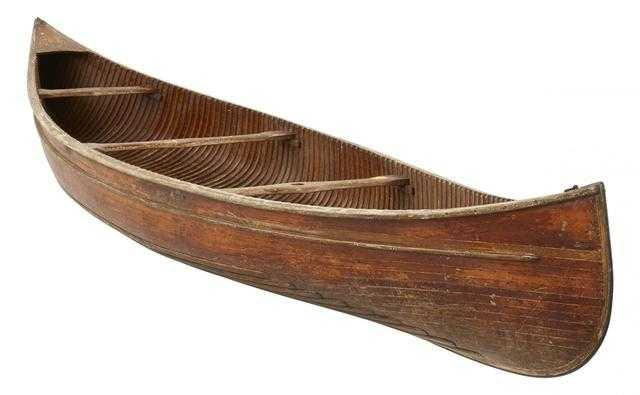kayak: (27, 20, 624, 376)
